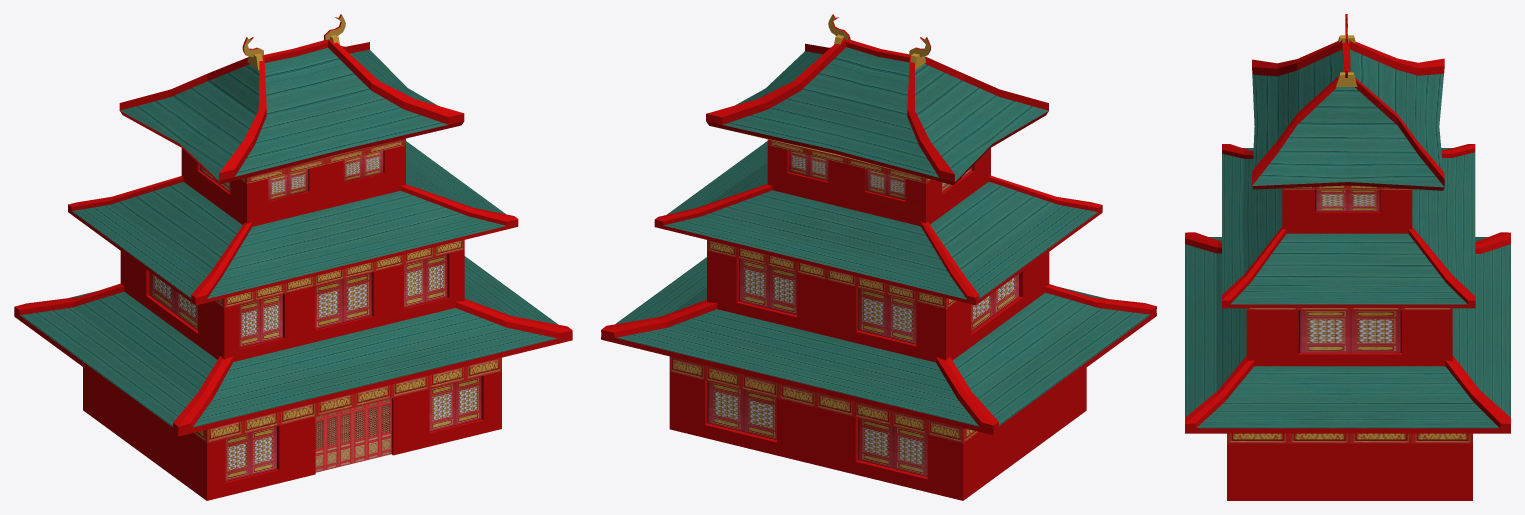
File: house.obj
The picture shows the model from 3 angles, left to right: view 1: azimuth 30°, elevation 25°; view 2: azimuth 150°, elevation 25°; view 3: azimuth 270°, elevation 25°; orthographic projection.
Parts seen in each view (by area): view 1: building_asian_building; view 2: building_asian_building; view 3: building_asian_building.
Boxes of the visible parts, x1=… form: building_asian_building: x1=14, y1=14, x2=572, y2=500; building_asian_building: x1=601, y1=14, x2=1156, y2=500; building_asian_building: x1=1185, y1=14, x2=1510, y2=500.
Size of the model in its own units: 6.38 by 6.1 by 4.59.
Materials: 1 (1 with a texture image).
